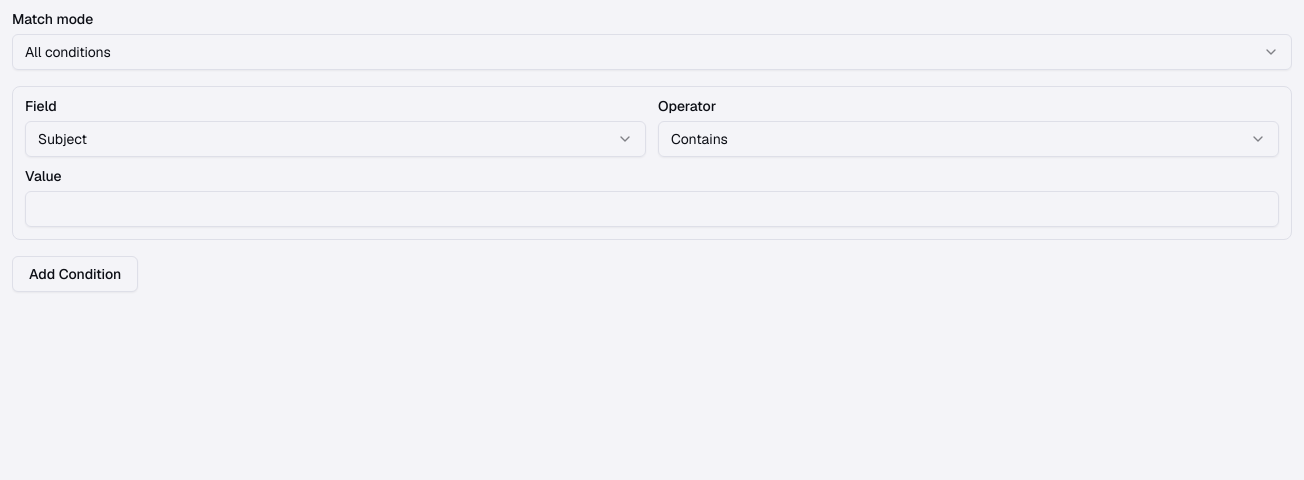
Test: ConditionBuilder › hides the value input for not_exists predicates
Click the dropdown labelled "Contains".
click(699, 139)  # box [658,121,1279,157]
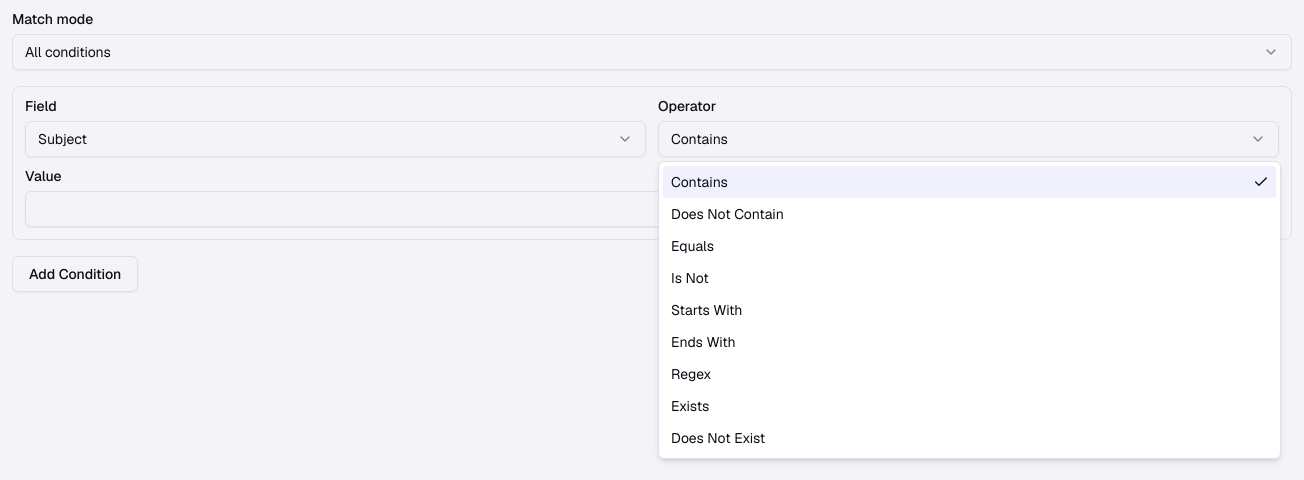
Click the option "Does Not Exist".
click(718, 438)  # box [671,429,765,447]
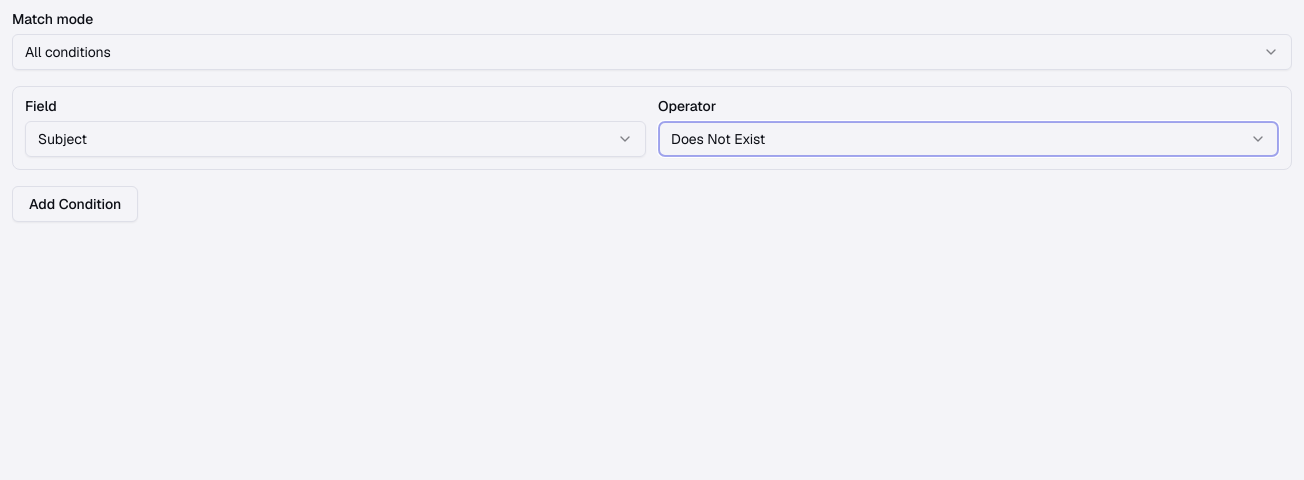
expect the label labelled "Value" is gone: met
